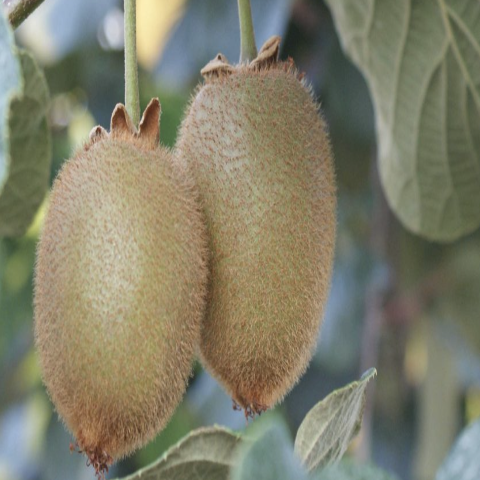kiwi: (162, 48, 354, 413), (35, 90, 210, 475)
